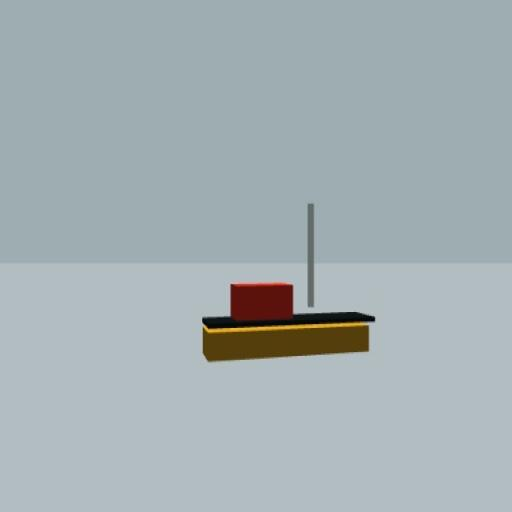vessel: (201, 201, 375, 362)
